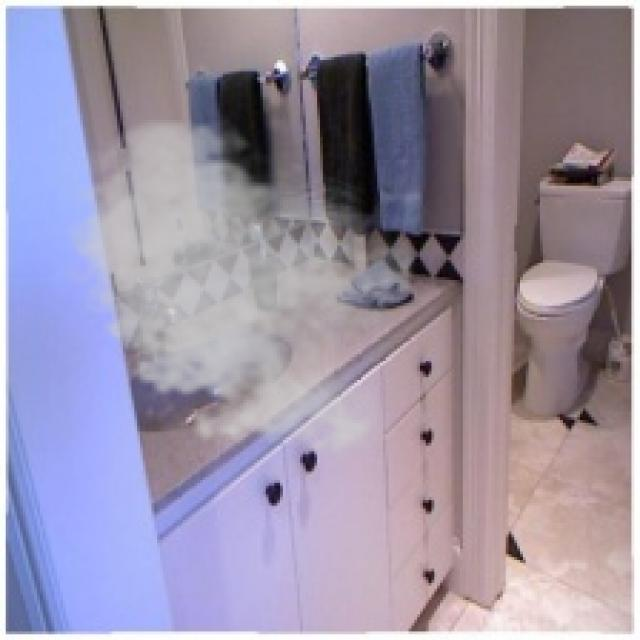smoke: (57, 111, 414, 466)
